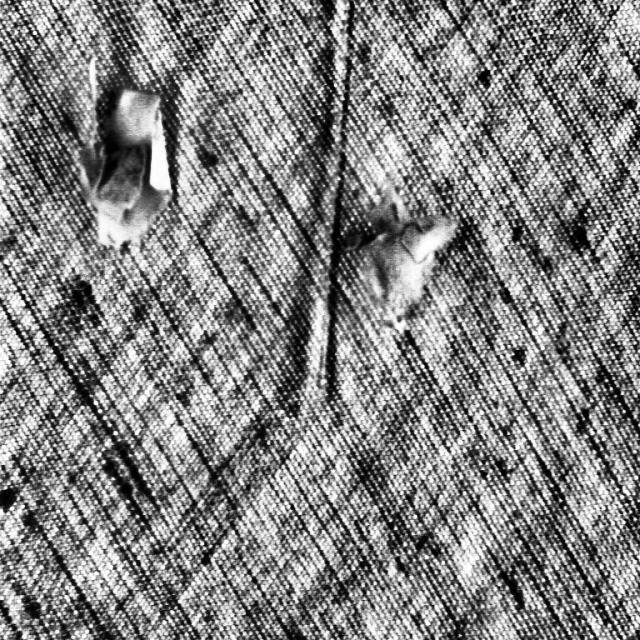gray stitch: (68, 55, 186, 273), (313, 0, 361, 399), (342, 180, 455, 334)
